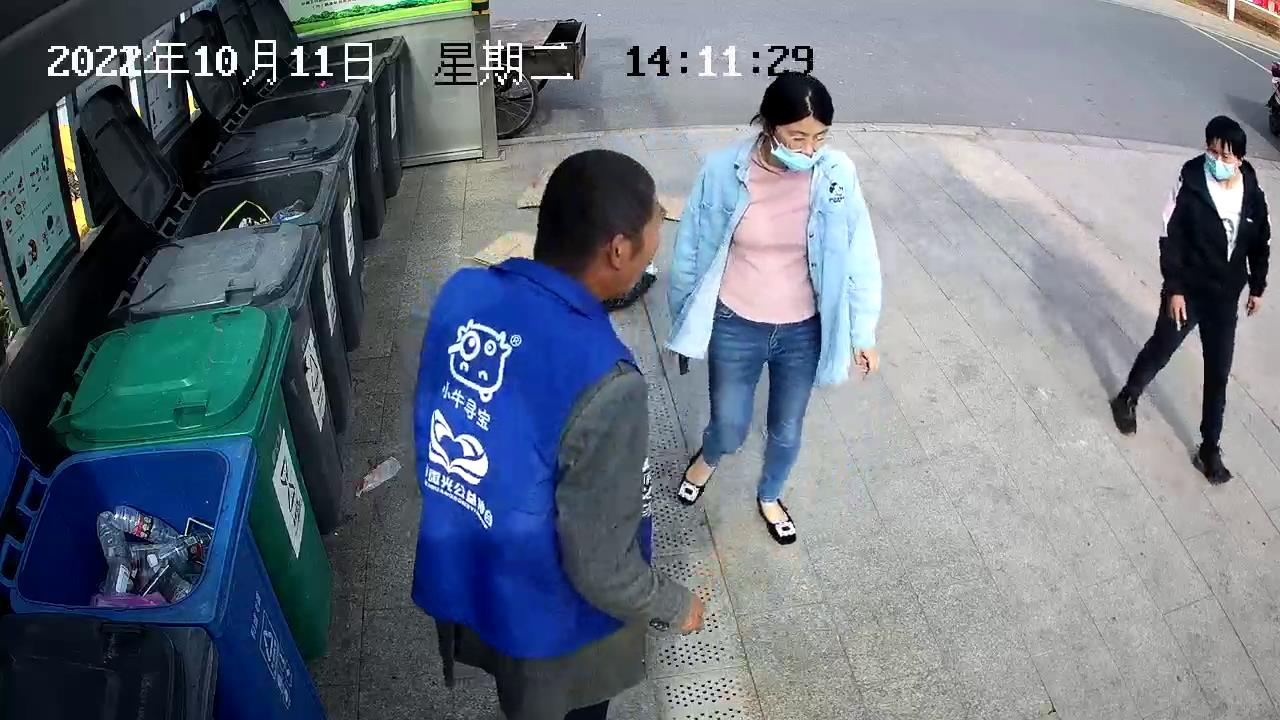person: (1108, 114, 1270, 487)
suliaozhipin: (351, 452, 403, 499)
worker: (408, 147, 705, 720), (665, 69, 884, 545)
zhizhipin: (455, 229, 535, 267)
